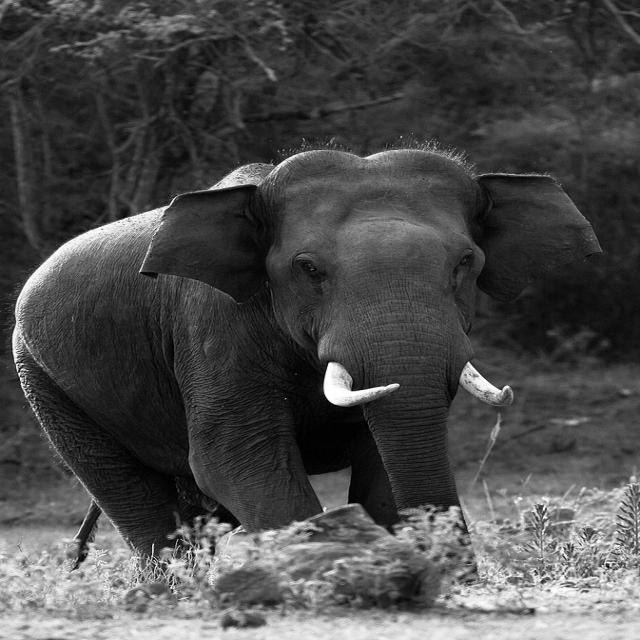Elephant: (10, 138, 603, 590)
